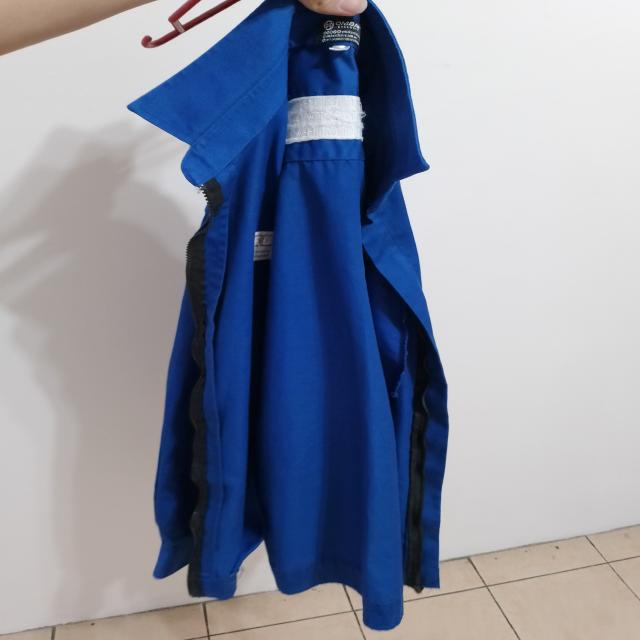person_without_labcoat: (128, 0, 448, 630)
